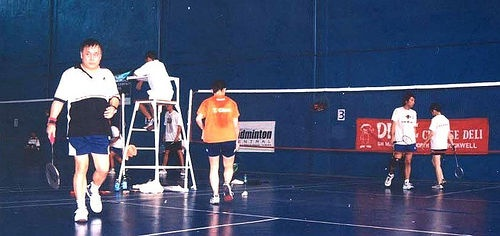head: (79, 40, 103, 69), (211, 80, 228, 101), (401, 93, 417, 111), (428, 102, 443, 119)
person: (48, 38, 117, 223), (194, 78, 240, 206), (127, 50, 173, 132), (425, 101, 466, 190), (385, 92, 417, 188), (159, 98, 185, 182)
